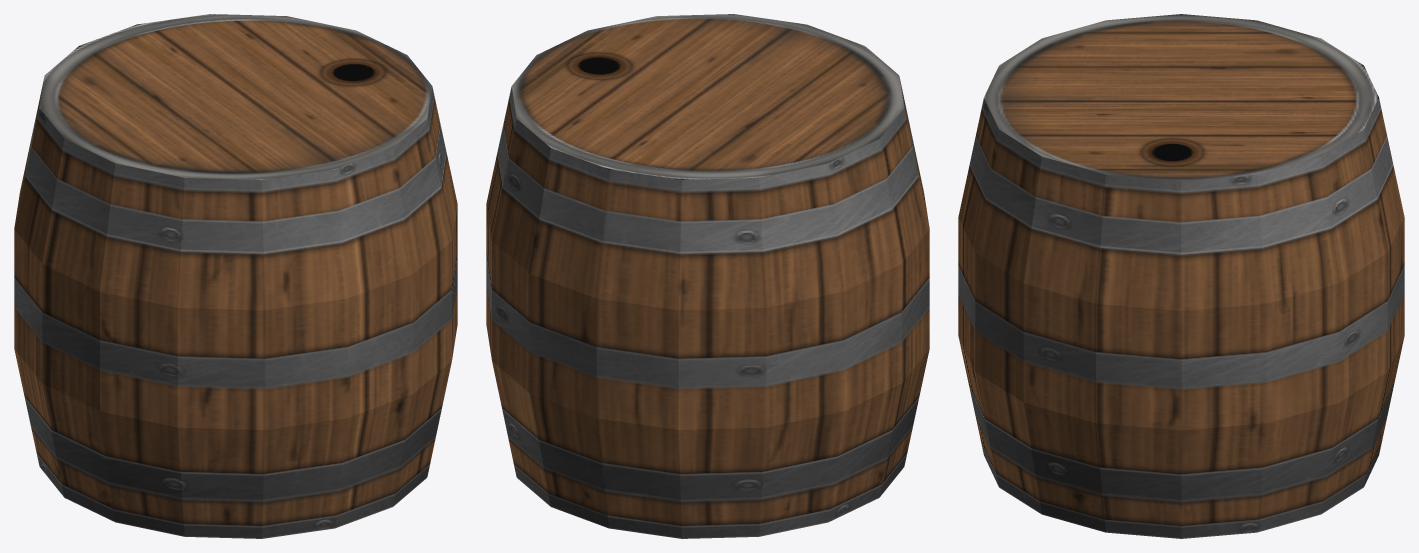
File: barrel.obj
3 renders of one model, left to right at view 1: azimuth 30°, elevation 25°; view 2: azimuth 150°, elevation 25°; view 3: azimuth 270°, elevation 25°, orthographic.
Parts seen in each view (by area): view 1: Cylinder; view 2: Cylinder; view 3: Cylinder.
Part boxes in pixels (bbox=[...]): Cylinder: bbox=[14, 14, 457, 538]; Cylinder: bbox=[486, 14, 929, 538]; Cylinder: bbox=[958, 14, 1404, 538].
Size of the model in its own units: 2.26 by 2 by 2.26.
